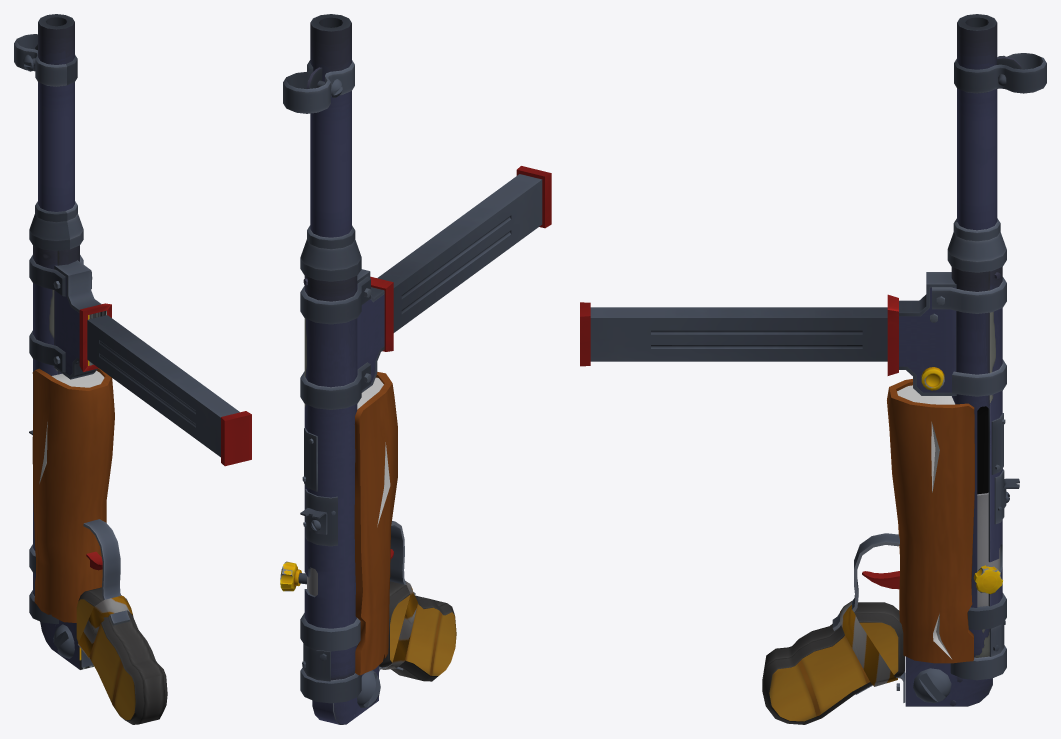
The model's file is Mp40_Preview.fbx.
3 views of the same model, side by side, from view 1: azimuth 30°, elevation 25°; view 2: azimuth 150°, elevation 25°; view 3: azimuth 270°, elevation 25° (orthographic). The views are drawn at different scales.
Visible parts, largest first — view 1: Mp40; view 2: Mp40; view 3: Mp40.
Boxes of the visible parts, x1,y1,x2,y2 form: Mp40: (14, 14, 251, 724); Mp40: (280, 14, 551, 724); Mp40: (580, 14, 1046, 724).
Bounding box in the file's own units: 0.4218 × 3.66 × 2.22.
